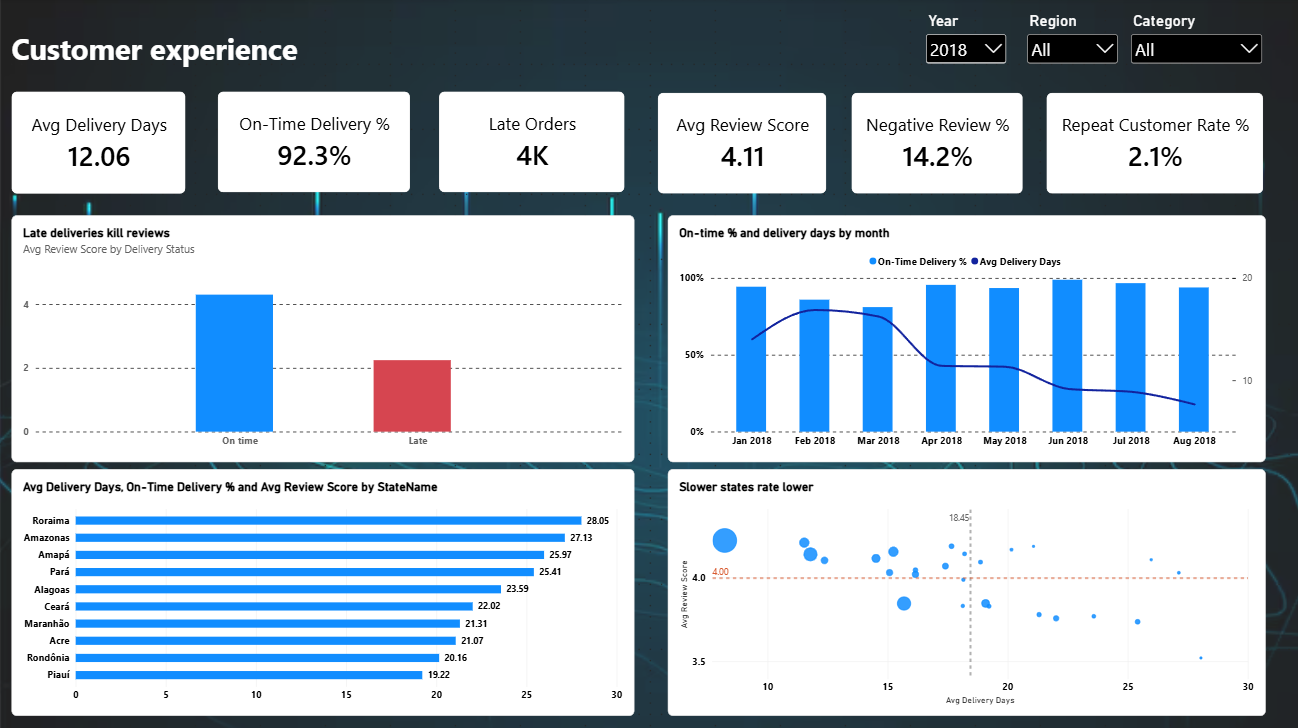

The dashboard page shown, as its layout file describes it:
{"tool":"powerbi","page":{"name":"Customer Experience","canvas":[1920,1080],"ordinal":3},"visuals":[{"type":"textbox","box":[18.8,45.2,512,73.4],"z":0},{"type":"slicer","fields":{"Values":["DimDate.Year"]},"box":[1364.6,18.3,128,100.6],"z":1000},{"type":"slicer","fields":{"Values":["DimState.Region"]},"box":[1513.8,18.5,143.1,101.6],"z":2000},{"type":"slicer","fields":{"Values":["DimProduct.Category"]},"box":[1666.3,18.3,203.1,84.9],"z":3000},{"type":"cardVisual","fields":{"Data":["_Measures.Avg Delivery Days"]},"box":[19.2,136.3,257.3,151.7],"z":4000},{"type":"cardVisual","fields":{"Data":["_Measures.On-Time Delivery %"]},"box":[322.6,136.3,284.2,149.8],"z":5000},{"type":"cardVisual","fields":{"Data":["_Measures.Late Orders"]},"box":[649,136.3,274.6,149.8],"z":6000},{"type":"cardVisual","fields":{"Data":["_Measures.Avg Review Score"]},"box":[973.4,138.2,249.6,149.8],"z":7000},{"type":"cardVisual","fields":{"Data":["_Measures.Negative Review %"]},"box":[1259.5,138.2,253.4,149.8],"z":8000},{"type":"cardVisual","fields":{"Data":["_Measures.Repeat Customer Rate %"]},"box":[1547.5,138.2,320.6,149.8],"z":9000},{"type":"clusteredColumnChart","title":"Late deliveries kill reviews","fields":{"Category":["FactOrderItems.Delivery Status"],"Y":["_Measures.Avg Review Score"]},"box":[19.2,318.7,919.7,364.8],"z":9001},{"type":"lineClusteredColumnComboChart","title":"On-time % and delivery days by month","fields":{"Category":["DimDate.MonthYear"],"Y":["_Measures.On-Time Delivery %"],"Y2":["_Measures.Avg Delivery Days"]},"box":[986.9,318.7,883.2,364.8],"z":9002},{"type":"clusteredBarChart","fields":{"Category":["DimState.StateName"],"Y":["_Measures.Avg Delivery Days"]},"box":[19,694,920,365],"z":9003},{"type":"scatterChart","title":"Slower states rate lower","fields":{"Category":["DimState.StateName"],"Size":["_Measures.Total Orders"],"X":["_Measures.Avg Delivery Days"],"Y":["_Measures.Avg Review Score"]},"box":[987,694,883,365],"z":9004}]}

Visuals, with their boxes in screenshot pixels (x1, y1, x2, y2), scaled from the page's 1920x1080 canvas onto the 1298x728 screenshot:
textbox: Rect(13, 30, 359, 80)
slicer - DimDate.Year: Rect(923, 12, 1009, 80)
slicer - DimState.Region: Rect(1023, 12, 1120, 81)
slicer - DimProduct.Category: Rect(1126, 12, 1264, 70)
cardVisual - _Measures.Avg Delivery Days: Rect(13, 92, 187, 194)
cardVisual - _Measures.On-Time Delivery %: Rect(218, 92, 410, 193)
cardVisual - _Measures.Late Orders: Rect(439, 92, 624, 193)
cardVisual - _Measures.Avg Review Score: Rect(658, 93, 827, 194)
cardVisual - _Measures.Negative Review %: Rect(851, 93, 1023, 194)
cardVisual - _Measures.Repeat Customer Rate %: Rect(1046, 93, 1263, 194)
"Late deliveries kill reviews" clusteredColumnChart: Rect(13, 215, 635, 461)
"On-time % and delivery days by month" lineClusteredColumnComboChart: Rect(667, 215, 1264, 461)
clusteredBarChart - DimState.StateName x _Measures.Avg Delivery Days: Rect(13, 468, 635, 714)
"Slower states rate lower" scatterChart: Rect(667, 468, 1264, 714)
